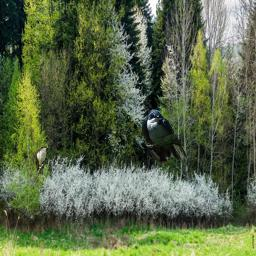Cuckoo: (35, 144, 48, 185)
Swallow: (140, 109, 189, 168)
